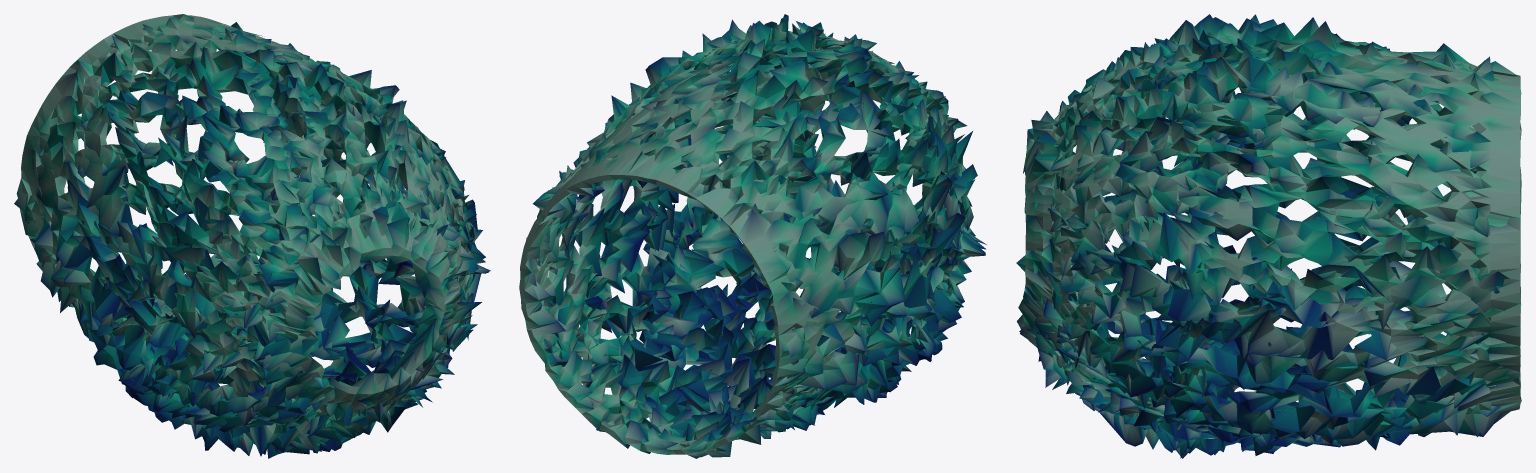
Rendered from lamp_shade_14_final200.obj.
The picture shows the model from 3 angles, left to right: view 1: azimuth 30°, elevation 25°; view 2: azimuth 150°, elevation 25°; view 3: azimuth 270°, elevation 25°; orthographic projection. The views are drawn at different scales.
Size of the model in its own units: 1.32 by 1.33 by 1.52.
